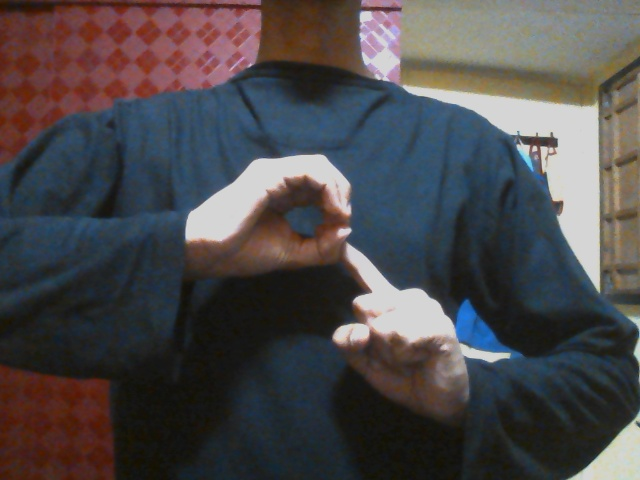Q: (195, 151, 462, 429)
